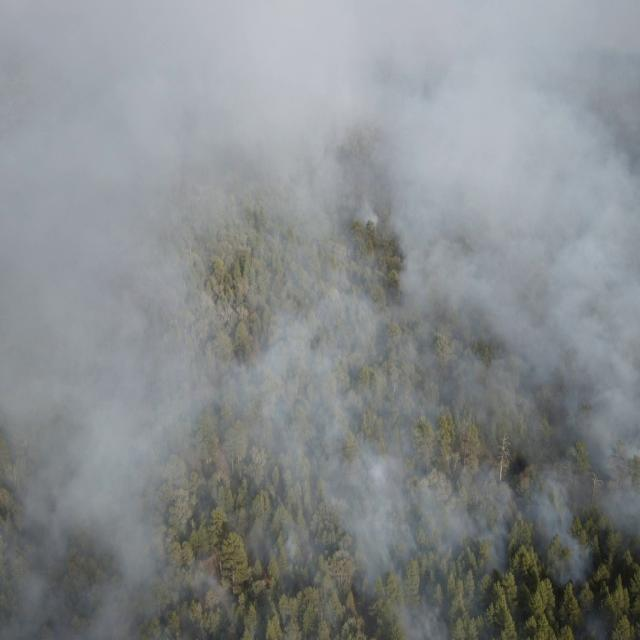fire: (262, 575, 272, 585)
smoke: (0, 0, 640, 640)
